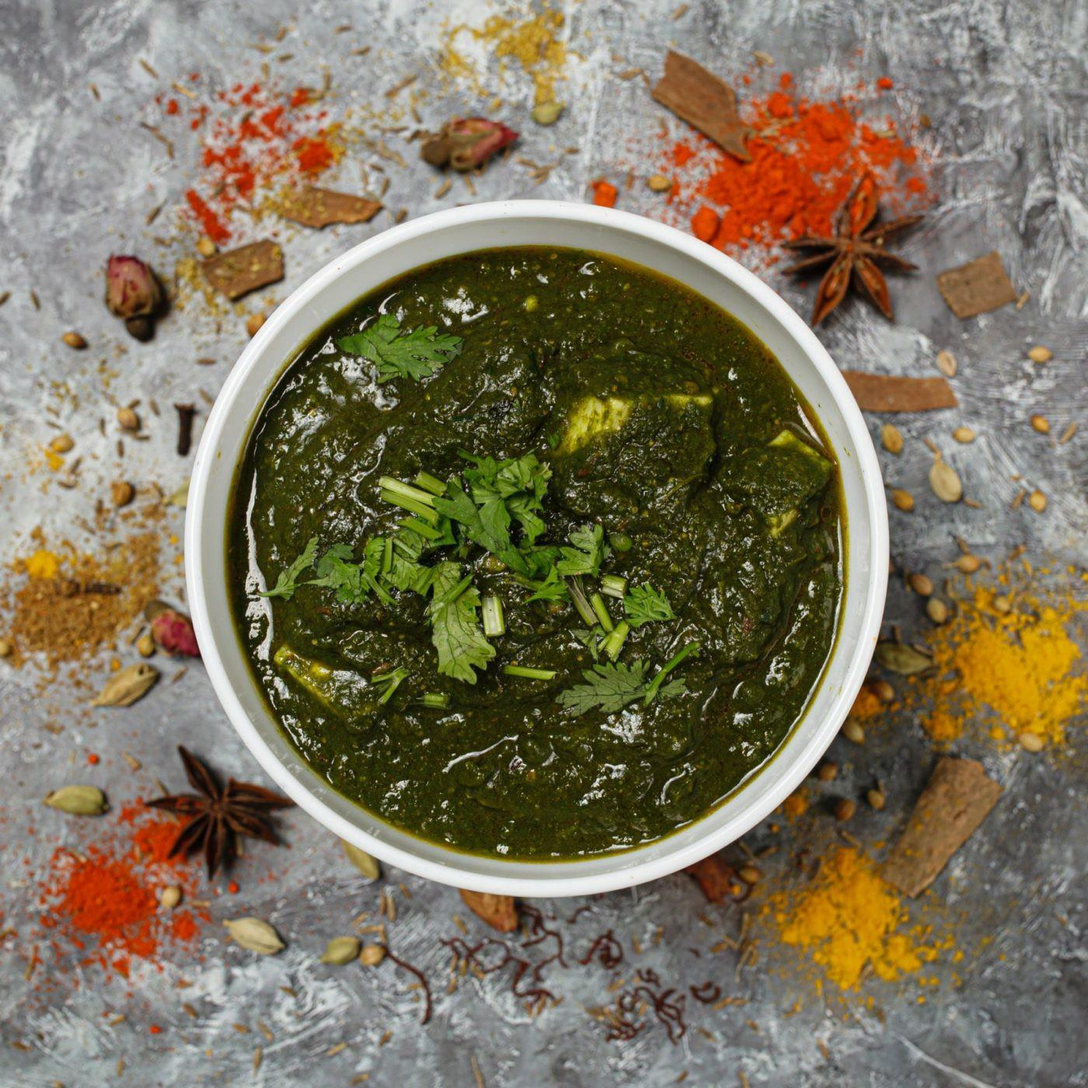PalakPaneer: (219, 247, 850, 862)
